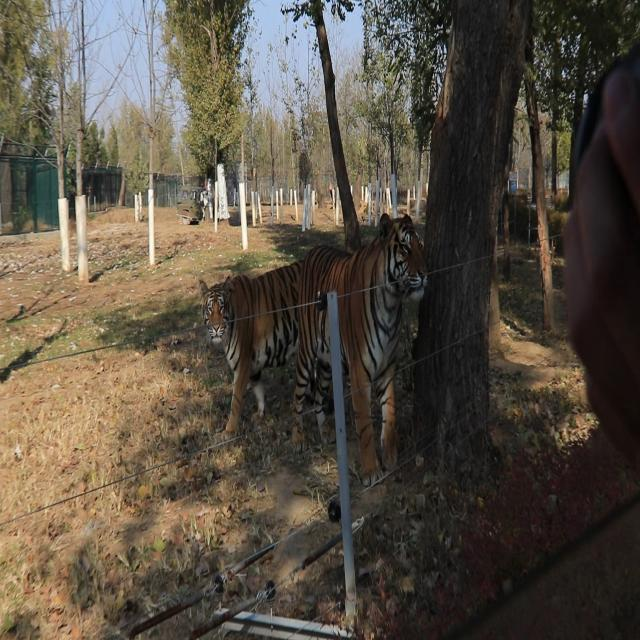Tiger: (293, 207, 449, 484), (190, 238, 314, 409)
